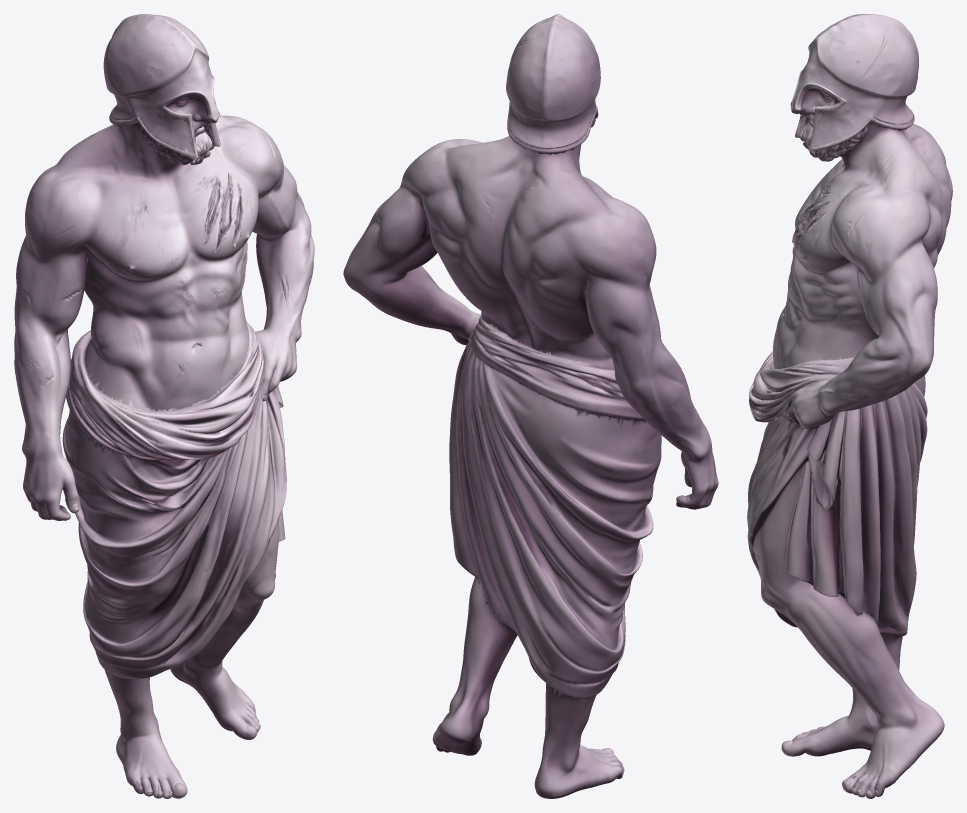
File: statue_warrior.glb
3 renders of one model, left to right at view 1: azimuth 30°, elevation 25°; view 2: azimuth 150°, elevation 25°; view 3: azimuth 270°, elevation 25°, orthographic. The views are drawn at different scales.
Visible parts, largest first — view 1: tripo_node_a2d92caf-f076-4f69-9baa-8d1c0dfa72c8; view 2: tripo_node_a2d92caf-f076-4f69-9baa-8d1c0dfa72c8; view 3: tripo_node_a2d92caf-f076-4f69-9baa-8d1c0dfa72c8.
Boxes of the visible parts, x1=… form: tripo_node_a2d92caf-f076-4f69-9baa-8d1c0dfa72c8: x1=14, y1=14, x2=314, y2=798; tripo_node_a2d92caf-f076-4f69-9baa-8d1c0dfa72c8: x1=343, y1=14, x2=718, y2=798; tripo_node_a2d92caf-f076-4f69-9baa-8d1c0dfa72c8: x1=747, y1=14, x2=952, y2=798.
Bounding box in the file's own units: 0.4345 × 0.9804 × 0.2446.
1 material, 1 textured.
